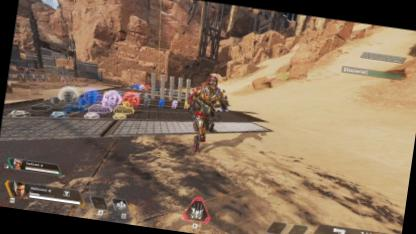Target: (187, 71, 227, 151)
